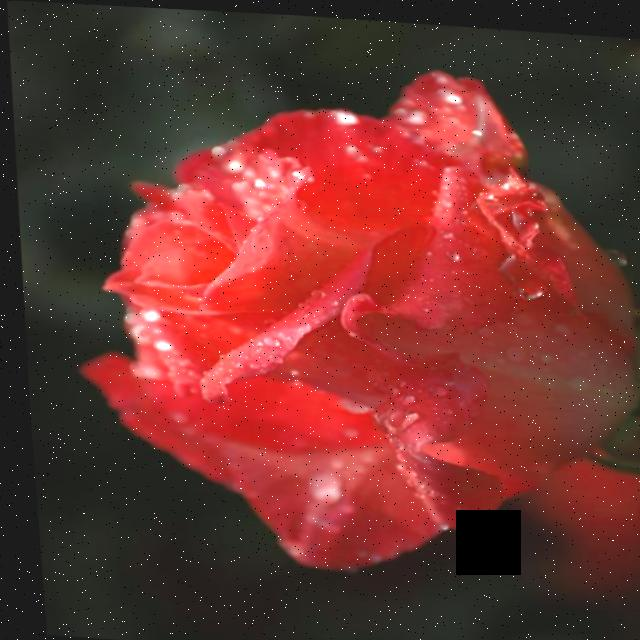rose: (21, 25, 640, 608)
